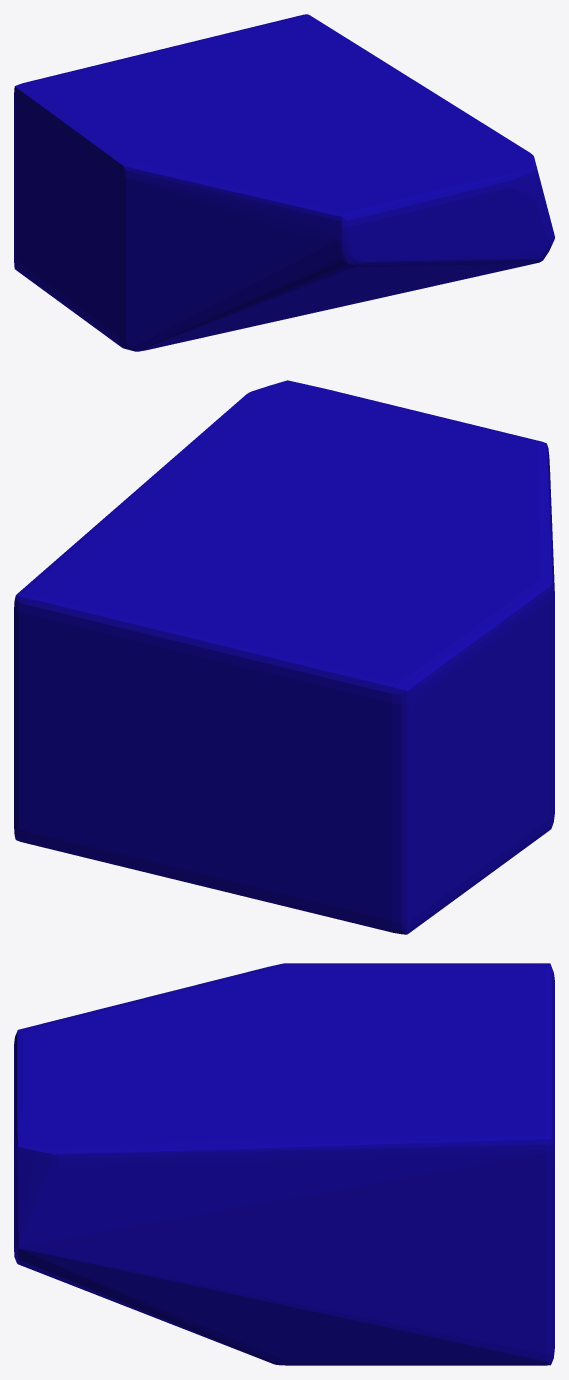
Rendered from torso_link_part_5.obj.
3 renders of one model, top to bottom at view 1: azimuth 30°, elevation 25°; view 2: azimuth 150°, elevation 25°; view 3: azimuth 270°, elevation 25°, orthographic. The views are drawn at different scales.
Size of the model in its own units: 0.1639 by 0.0895 by 0.1919.
